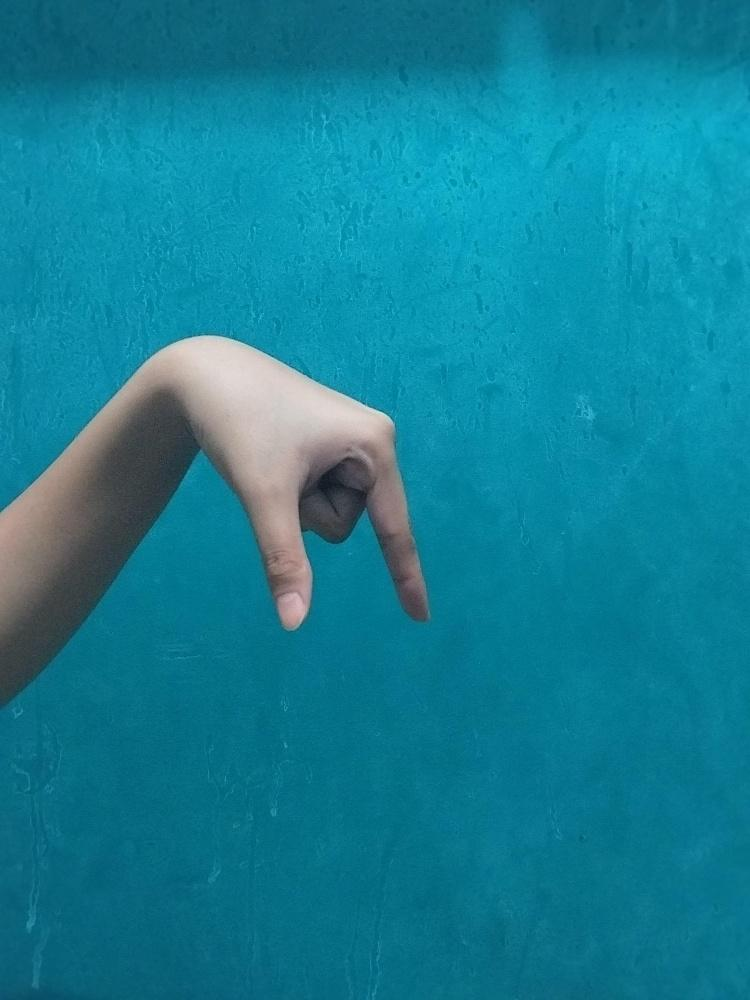q: (149, 331, 433, 638)
